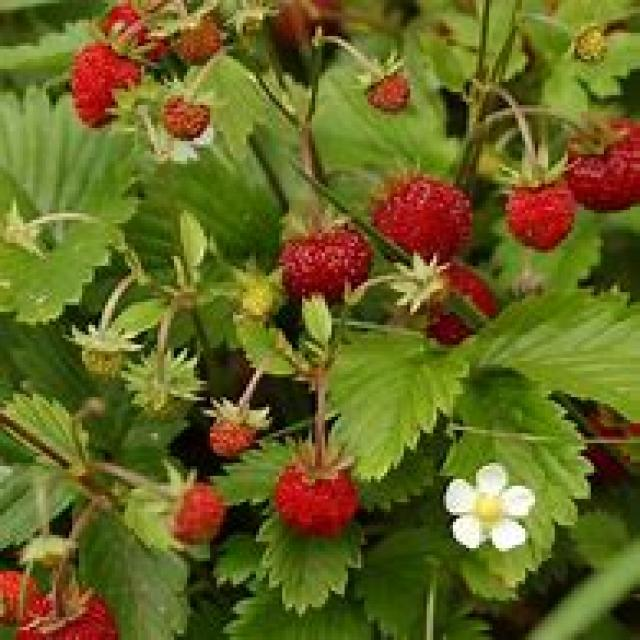Berries strawberries/blueberries: (277, 450, 360, 540), (282, 218, 371, 292), (397, 169, 473, 253), (504, 163, 575, 252), (72, 36, 114, 126)
